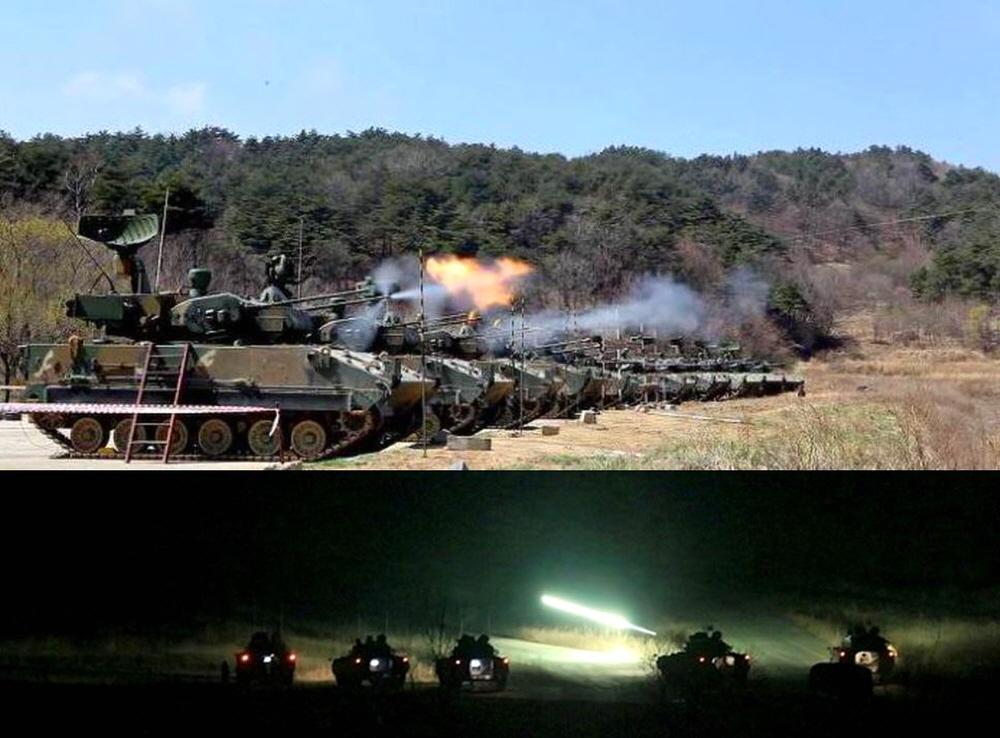MIL_IFV: (17, 227, 421, 460), (651, 625, 750, 694), (328, 629, 415, 698), (431, 627, 515, 697)
